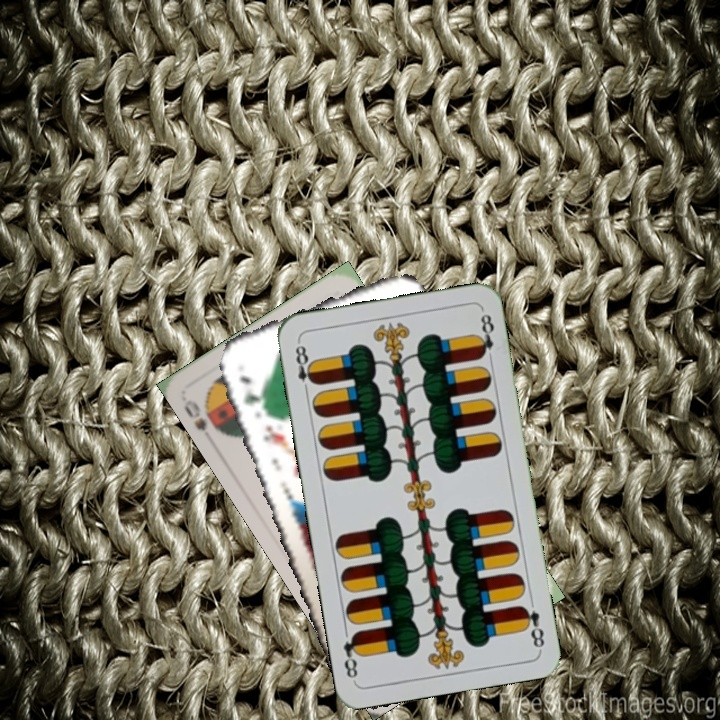E8: (291, 338, 319, 397), (517, 602, 547, 651)
GK: (235, 370, 263, 409)
SO: (179, 395, 229, 439)
